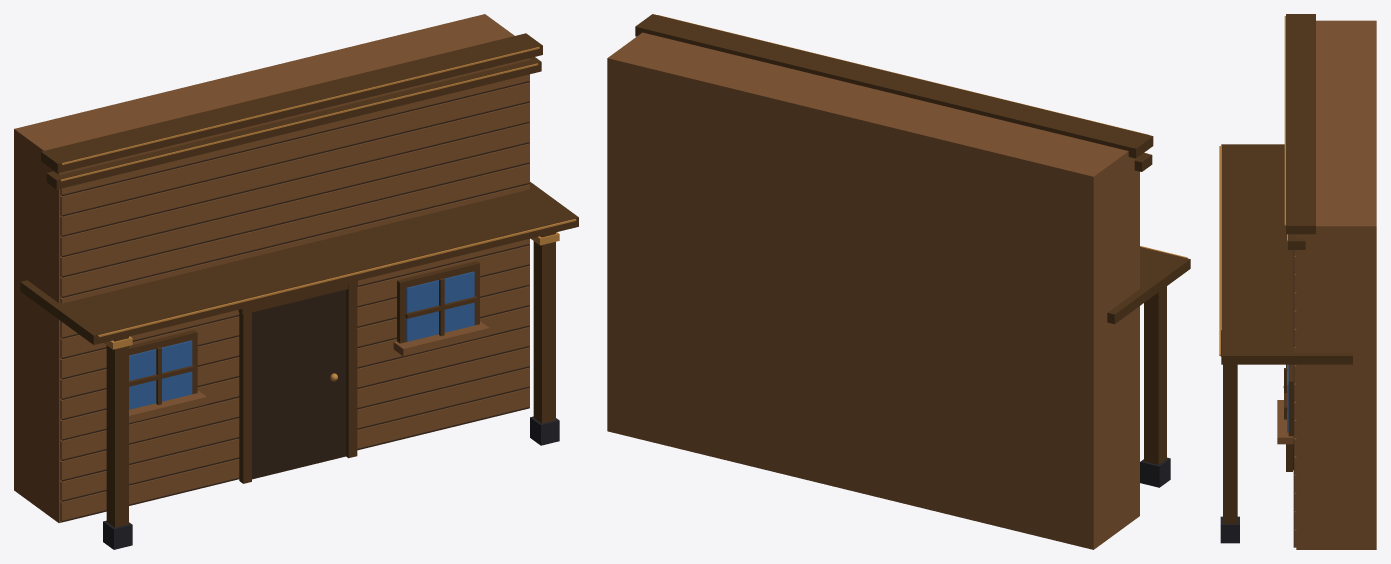
Rendered from mia-facade.glb.
3 views of the same model, side by side, from view 1: azimuth 30°, elevation 25°; view 2: azimuth 150°, elevation 25°; view 3: azimuth 270°, elevation 25° (orthographic). The views are drawn at different scales.
Visible parts, largest first — view 1: Body_oak, Body_wood, Body_grain, Body_night-glass, Body_brass, Body_iron; view 2: Body_oak, Body_wood, Body_iron; view 3: Body_oak, Body_wood, Body_brass, Body_grain, Body_iron.
Boxes of the visible parts, x1=… form: Body_oak: x1=14, y1=14, x2=529, y2=522; Body_wood: x1=20, y1=33, x2=578, y2=527; Body_grain: x1=62, y1=81, x2=529, y2=522; Body_night-glass: x1=129, y1=271, x2=474, y2=409; Body_brass: x1=60, y1=47, x2=576, y2=381; Body_iron: x1=103, y1=416, x2=559, y2=549; Body_oak: x1=607, y1=32, x2=1139, y2=549; Body_wood: x1=635, y1=14, x2=1190, y2=464; Body_iron: x1=1140, y1=457, x2=1170, y2=487; Body_oak: x1=1277, y1=20, x2=1376, y2=549; Body_wood: x1=1221, y1=14, x2=1352, y2=523; Body_brass: x1=1219, y1=16, x2=1287, y2=387; Body_grain: x1=1293, y1=250, x2=1294, y2=547; Body_iron: x1=1220, y1=330, x2=1239, y2=543.
Size of the model in its own units: 6.18 by 4.45 by 1.94.
